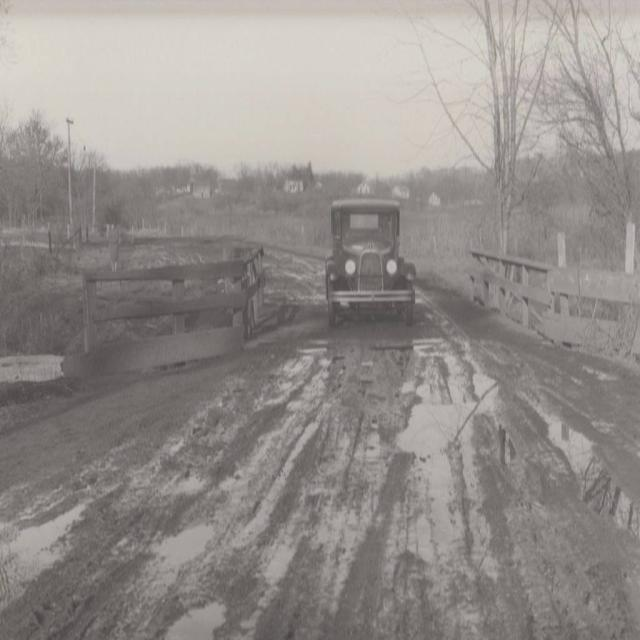car: (313, 180, 421, 331)
